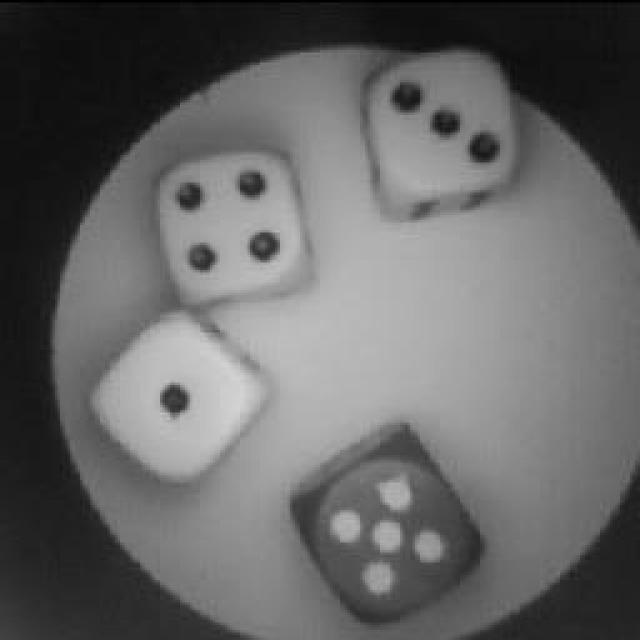dice_1: (97, 322, 255, 472)
dice_3: (360, 45, 525, 205)
dice_4: (148, 155, 298, 307)
dice_5: (295, 440, 477, 618)
